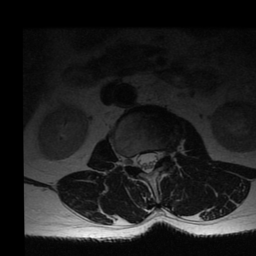CCS_normal: (142, 146, 151, 176)
LFS_normal: (158, 144, 165, 166)
LLS_normal: (151, 145, 158, 171)
RFS_normal: (127, 149, 136, 172)
RLS_normal: (136, 146, 143, 173)
